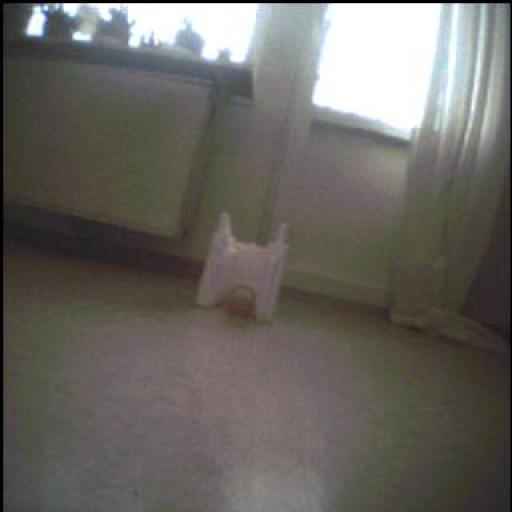Basket: (226, 282, 257, 320)
